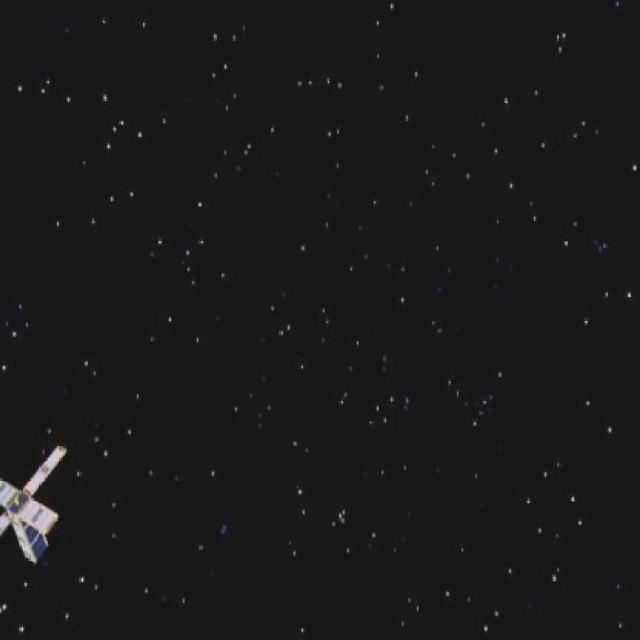satellite: (0, 442, 74, 562)
